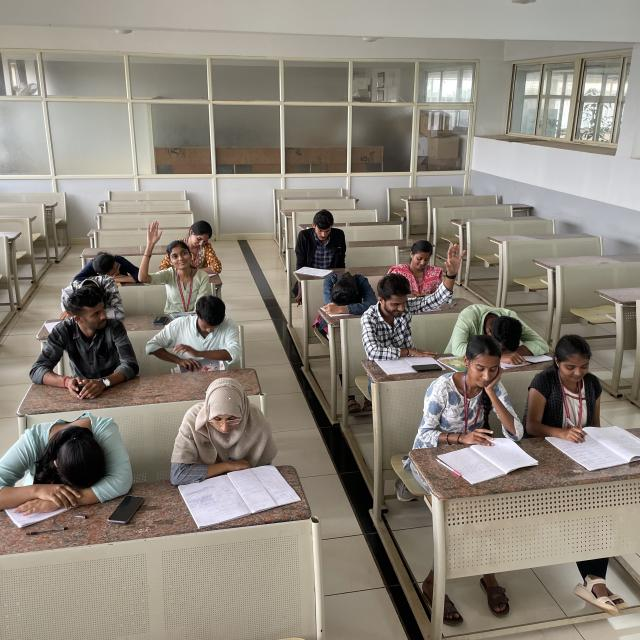Hand Rising: (356, 241, 467, 364), (138, 219, 210, 318)
Reading: (170, 374, 288, 530), (420, 331, 528, 473), (291, 209, 349, 281)
Sleeping: (0, 406, 150, 538), (450, 297, 550, 361), (313, 267, 377, 320), (72, 251, 144, 287)
Using Phone: (391, 238, 447, 306)
Writing: (524, 334, 634, 462), (180, 220, 224, 274)
